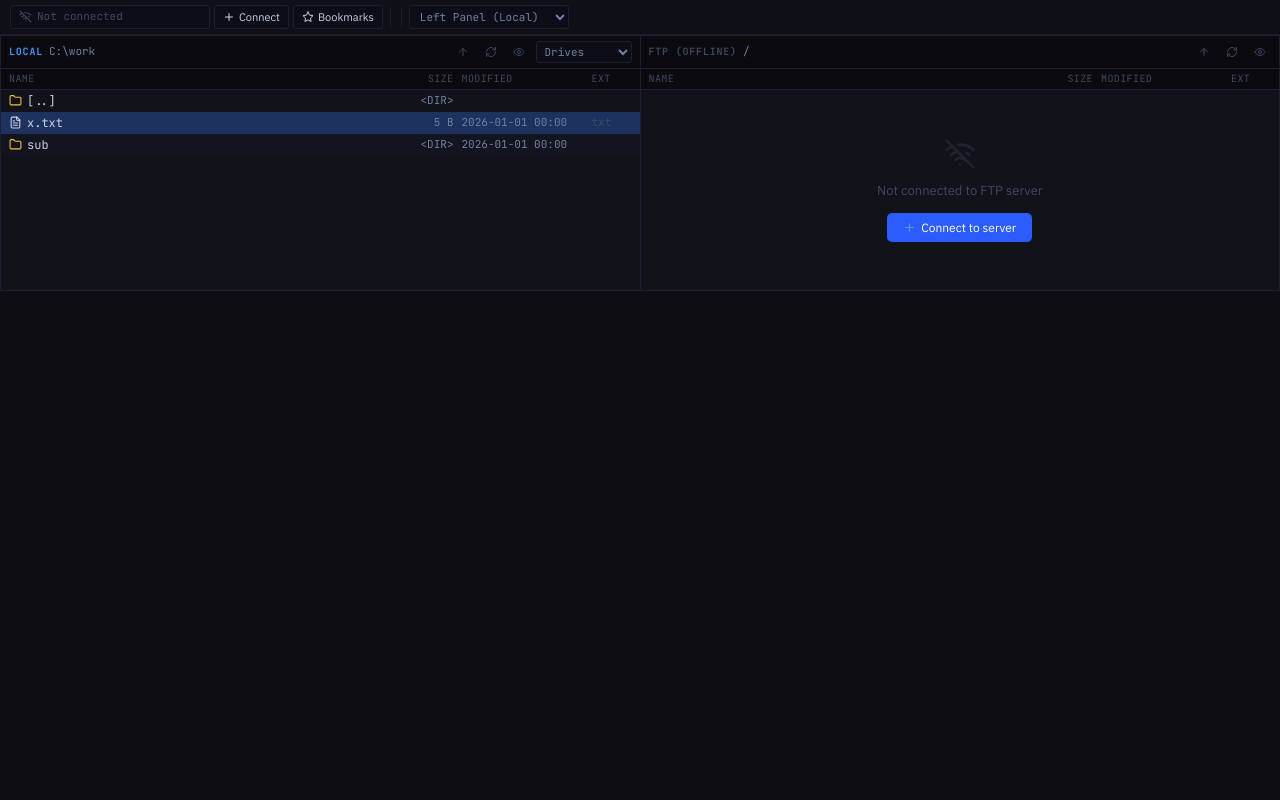
Scenario: FTPManager 통합 흐름 › FM-02: 접속 → 루트 목록, 히스토리 저장, 연결 정보 표시, 점파일 숨김
Click the button "Connect" at (251, 17), box [214,5,289,29]
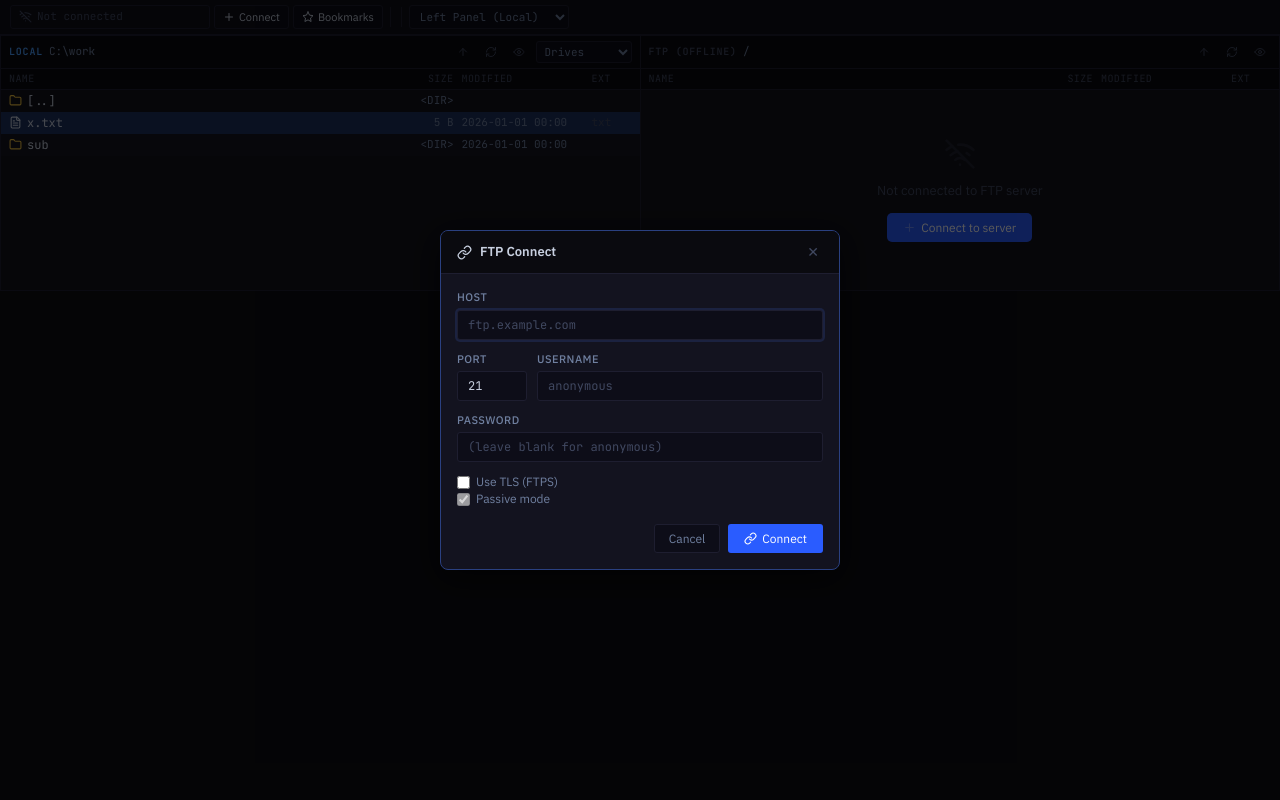
Type "ftp.test" into the field with placeholder "ftp.example.com" at (640, 325), box [457,310,823,340]
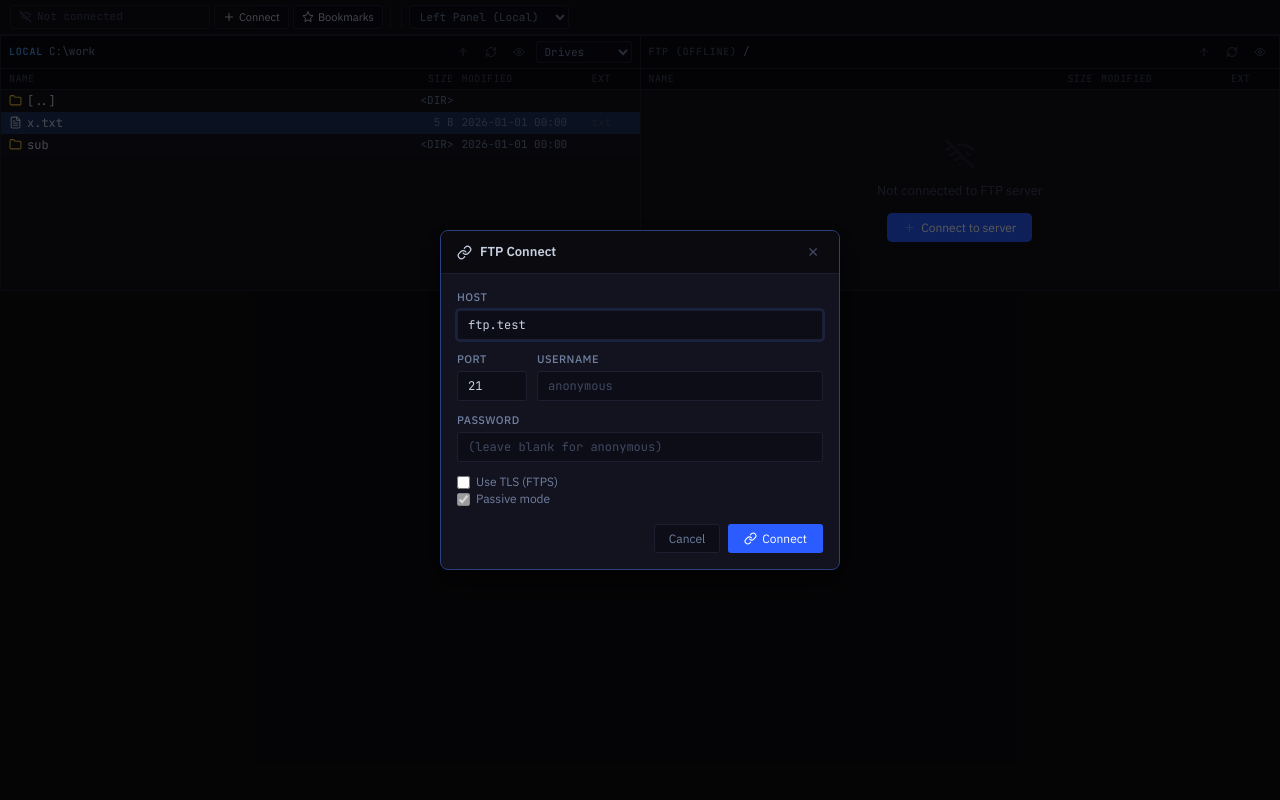
Type "bob" into the field with placeholder "anonymous" at (680, 386), box [537,371,823,401]
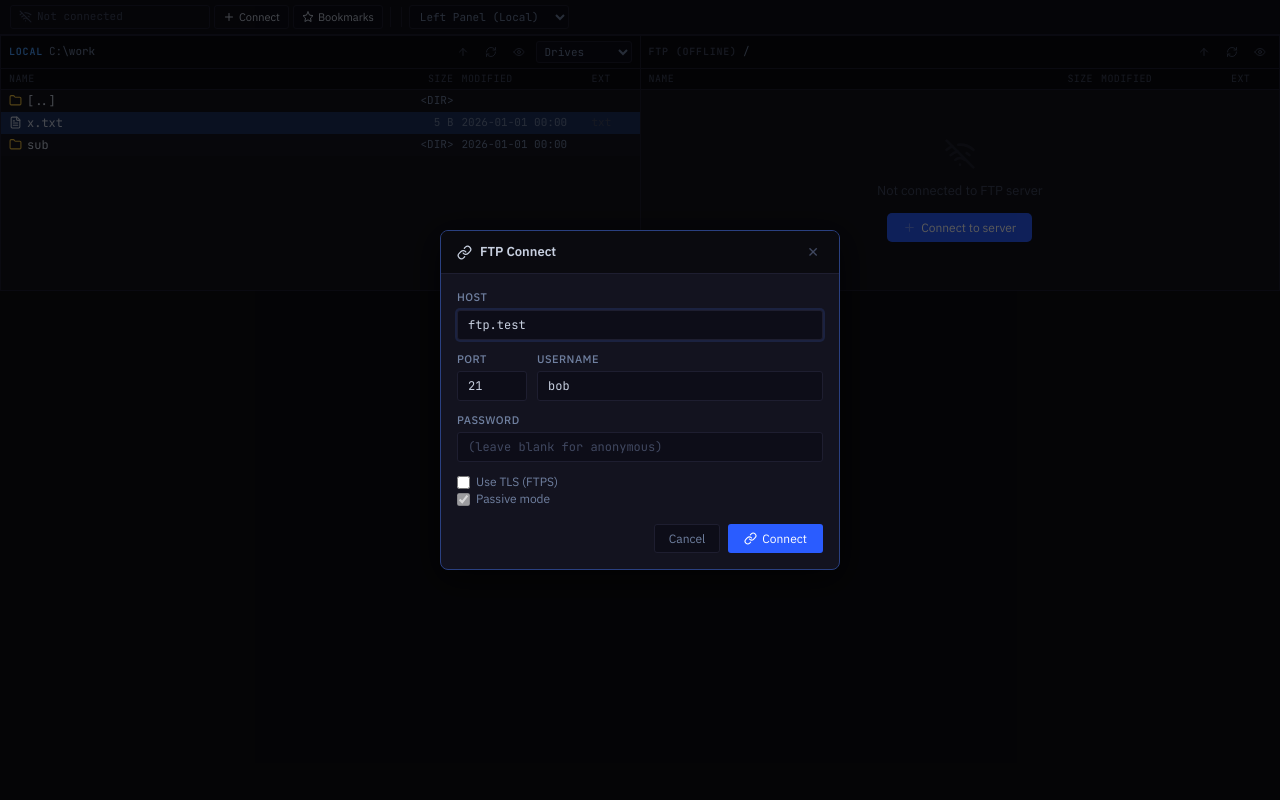
Click the submit button at (776, 538), box [728,524,823,553]
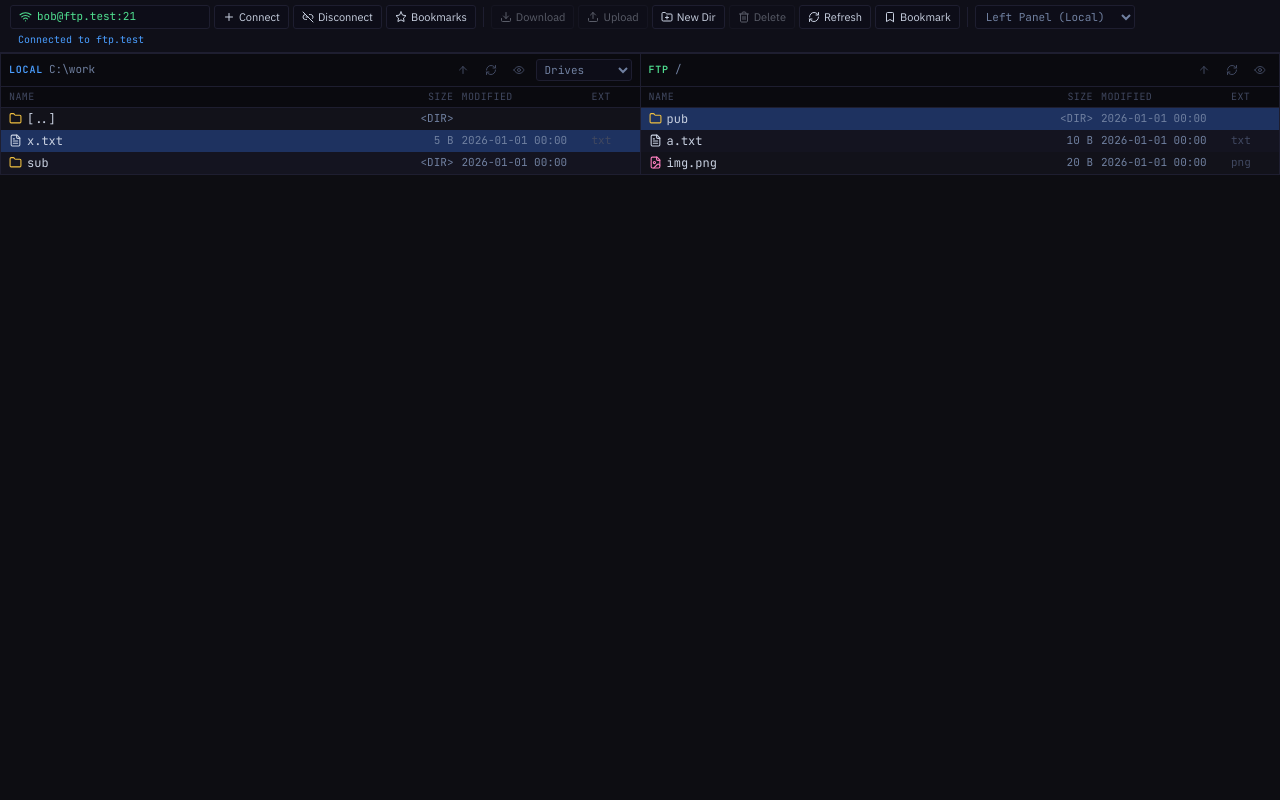
Expected: the text "Connected to ftp.test" is shown, [18,33,144,47]
Expected: the text "bob@ftp.test:21" is shown, [37,9,136,25]
Expected: the text "a.txt" is shown, [648,133,702,149]
